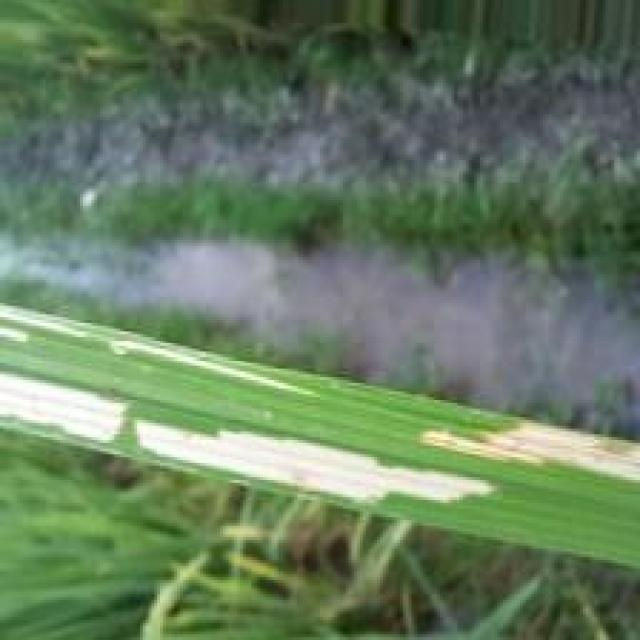Rice_Hispa: (138, 419, 494, 508), (419, 423, 640, 490), (0, 367, 126, 445)
